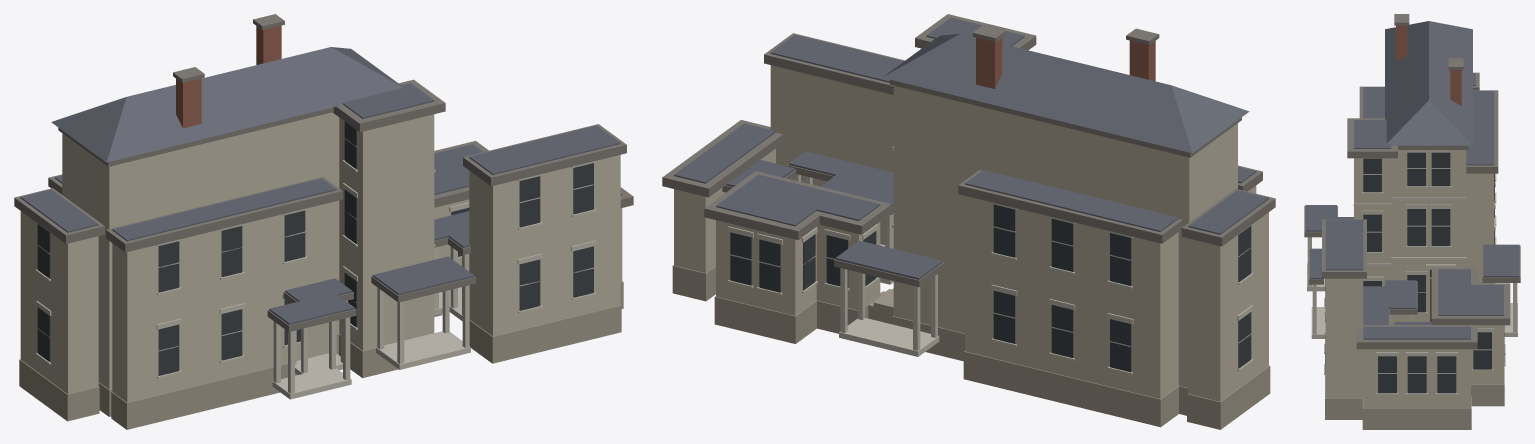
The model's file is house_2000_prairie__draft_1904.glb.
3 renders of one model, left to right at view 1: azimuth 30°, elevation 25°; view 2: azimuth 150°, elevation 25°; view 3: azimuth 270°, elevation 25°, orthographic. The views are drawn at different scales.
Visible parts, largest first — view 1: house_2000_prairie__draft_1904; view 2: house_2000_prairie__draft_1904; view 3: house_2000_prairie__draft_1904.
Boxes of the visible parts, x1=… form: house_2000_prairie__draft_1904: x1=14, y1=14, x2=633, y2=429; house_2000_prairie__draft_1904: x1=662, y1=14, x2=1275, y2=429; house_2000_prairie__draft_1904: x1=1304, y1=14, x2=1520, y2=429.
Bounding box in the file's own units: 26.55 × 14.87 × 11.55.
